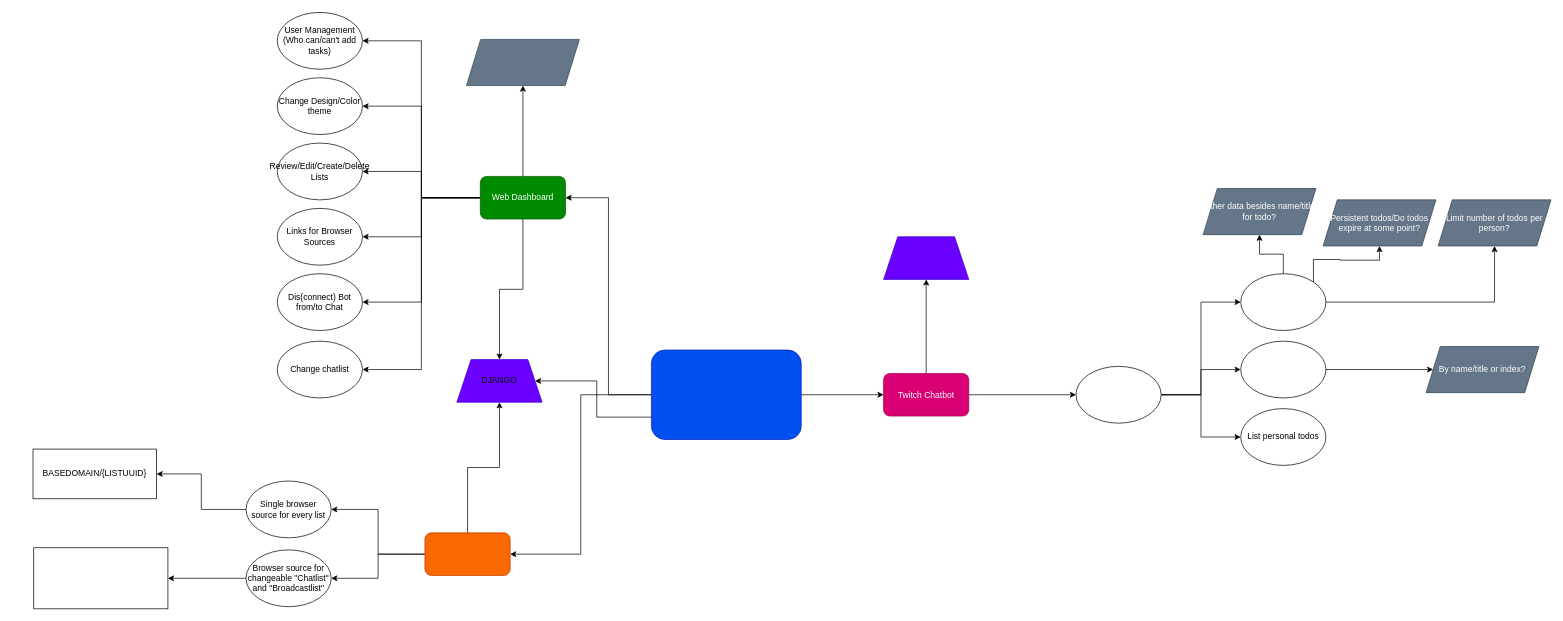
The diagram is 1563 pixels wide and 621 high, and some of its shapes have lost their labels. Each missing label, with the box of its shape:
Add todo to list: (1240, 273, 1326, 331)
BASEDOMAIN/{USERUUID}/CHATLIST BASEDOMAIN/{USERUUID}/STREAMERLIST: (33, 547, 168, 609)
Central Database (Single source of truth): (651, 349, 801, 439)
Commands: (1075, 366, 1161, 423)
Mark todo done: (1240, 340, 1326, 398)
OBS Browser Sources: (424, 532, 510, 575)
Twitch oAuth login? Otherwise full selfhost probably: (466, 39, 579, 86)
TwitchIO: (883, 236, 969, 279)
